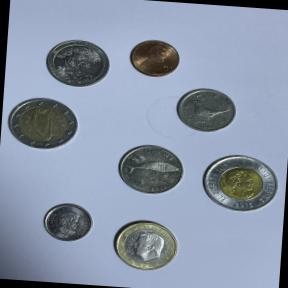1 Euro-B: (103, 212, 189, 278)
2 Euro-B: (0, 88, 88, 161)
Canada-10cent-B: (36, 196, 99, 247)
Canada-2Dollar-B: (189, 143, 288, 224)
Croatia-2Kune-B: (106, 133, 196, 204)
US-1cent-B: (119, 31, 189, 86)
US-25cent-B: (34, 29, 119, 96)
